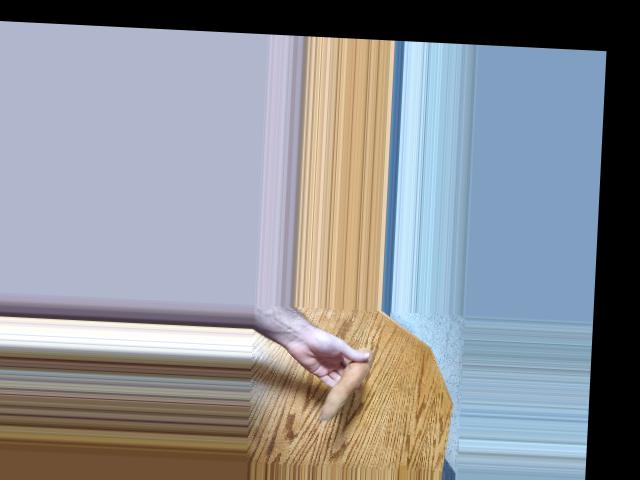sweet_potato: (319, 343, 374, 422)
